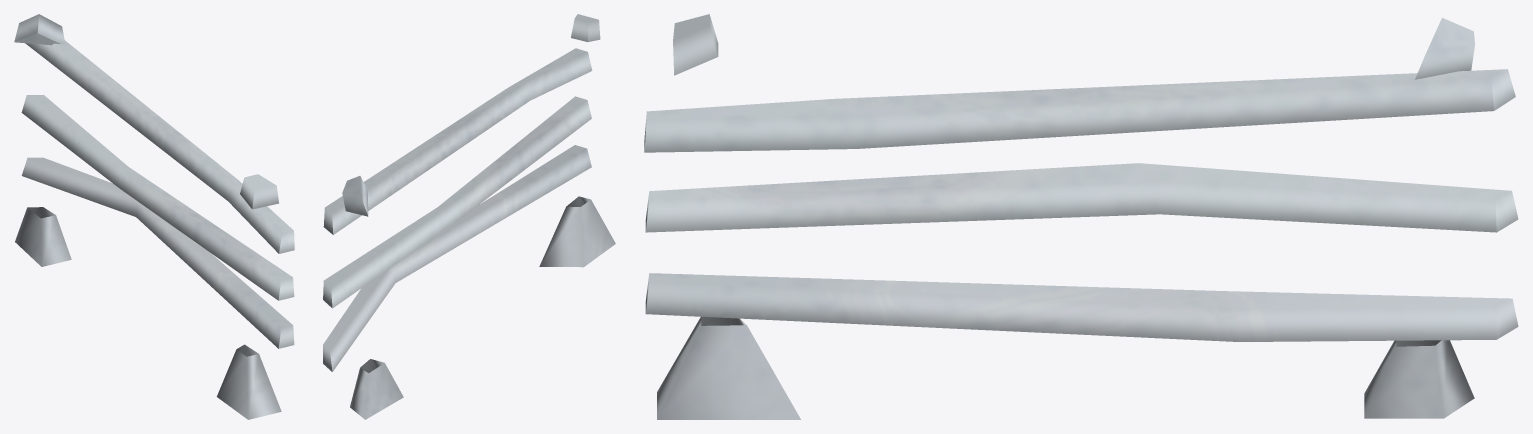
File: Fence_3_Snow.fbx
The picture shows the model from 3 angles, left to right: view 1: azimuth 30°, elevation 25°; view 2: azimuth 150°, elevation 25°; view 3: azimuth 270°, elevation 25°; orthographic projection. The views are drawn at different scales.
Parts seen in each view (by area): view 1: Fence_3_Snow; view 2: Fence_3_Snow; view 3: Fence_3_Snow.
Boxes of the visible parts, left/top/right/bottom form: Fence_3_Snow: left=14, top=14, right=294, bottom=419; Fence_3_Snow: left=323, top=14, right=615, bottom=419; Fence_3_Snow: left=644, top=14, right=1518, bottom=419.
Bounding box in the file's own units: 36.34 × 117 × 235.
